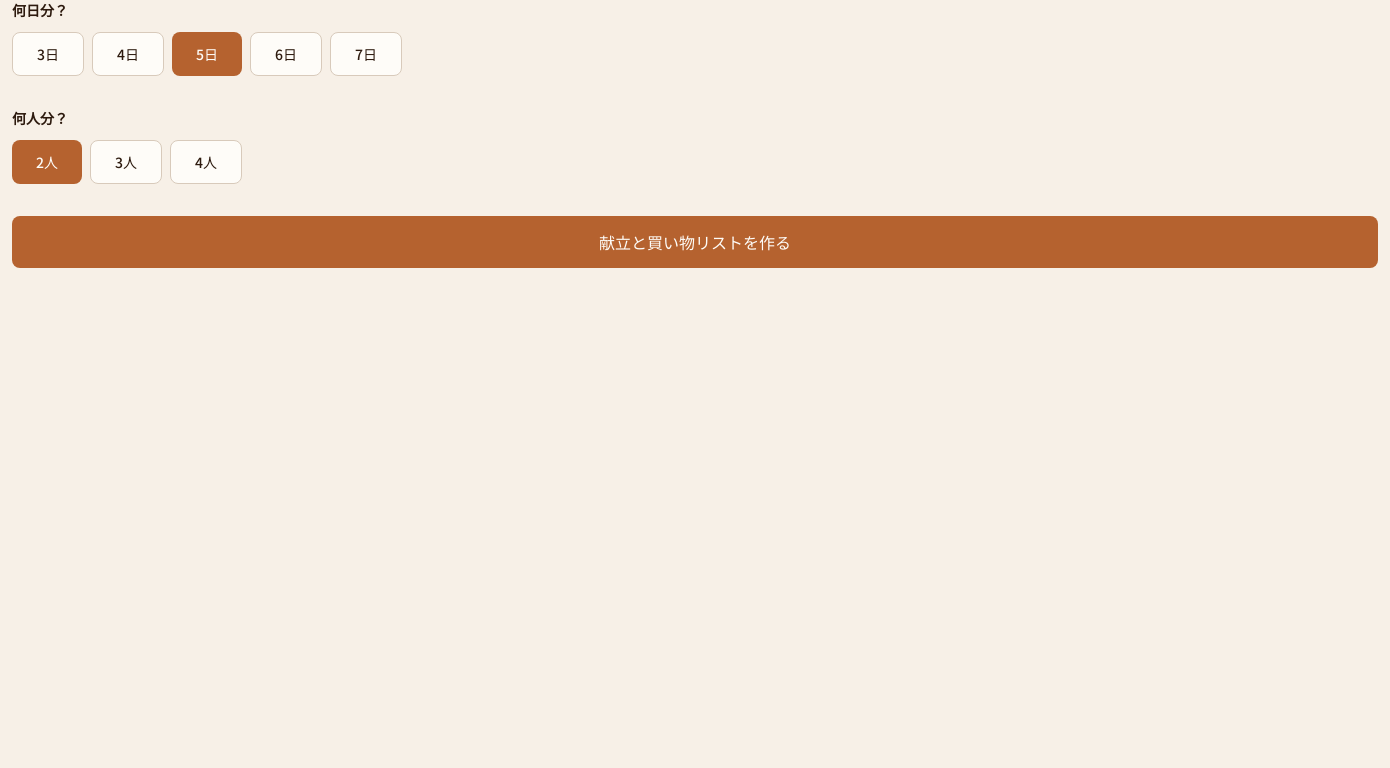
Test: MealPlanner › 常備品は買い物リストと別枠で案内する
Click the button "献立と買い物リストを作る". click: point(695, 242)
box: [12,216,1378,268]
(page scrolled)
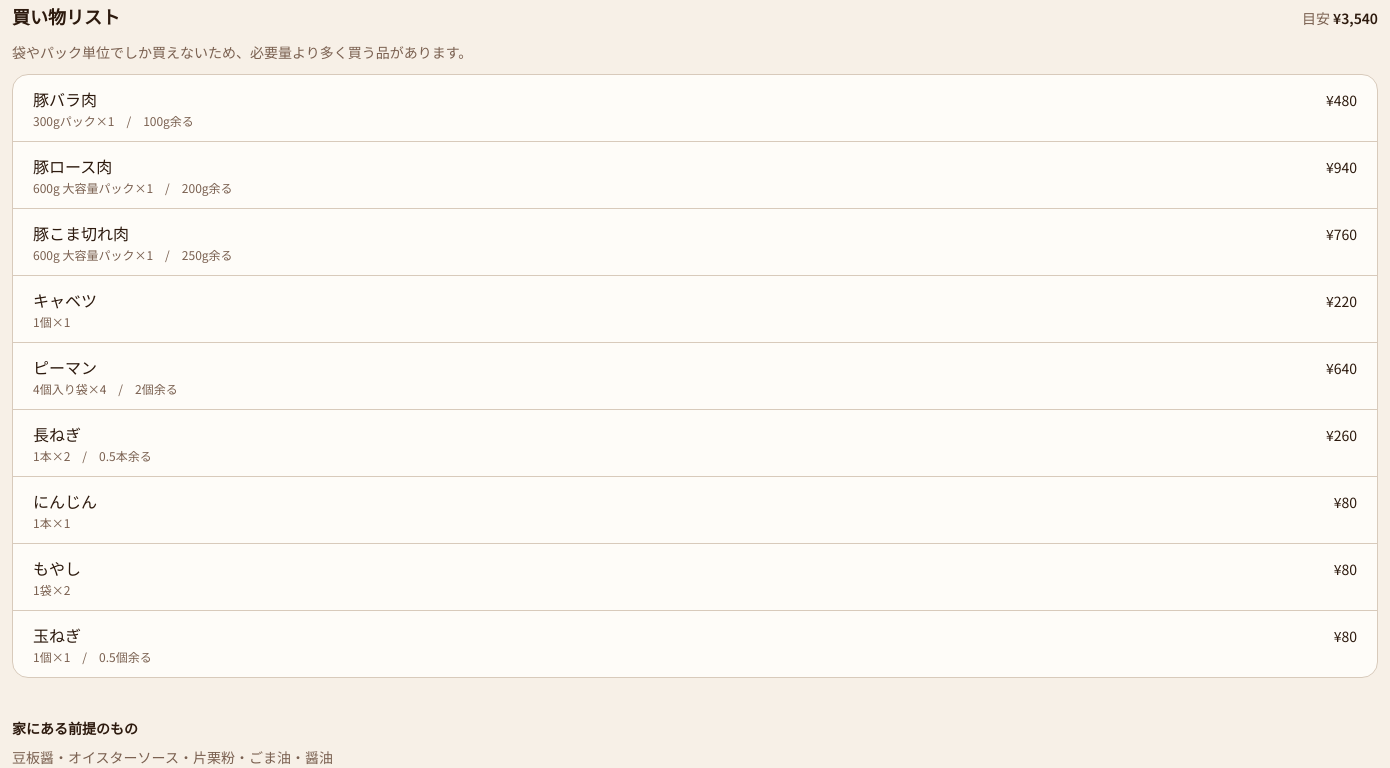
Now the heading "家にある前提のもの" is shown, box [12,718,138,738]
